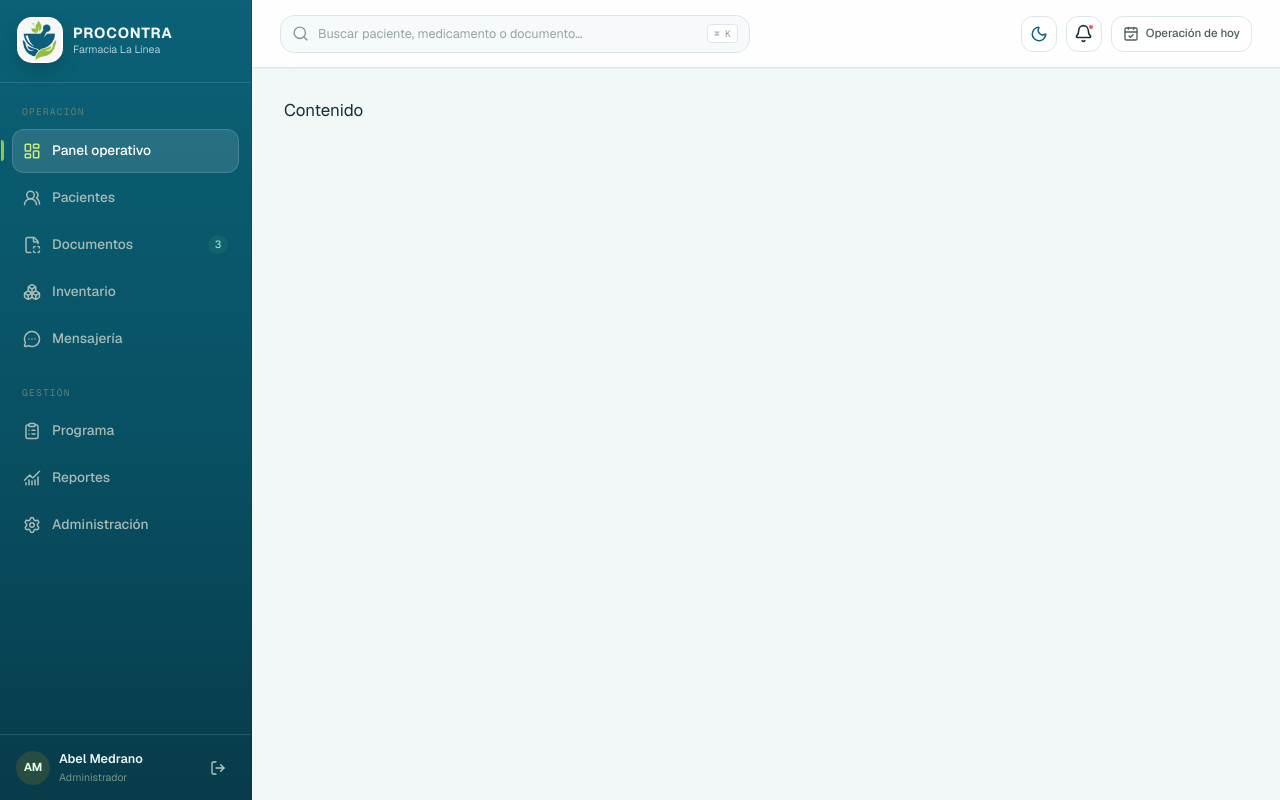
it: AppShell › switches to dark mode and persists the preference
Click the button named "Cambiar a modo oscuro" at (1039, 34), box [1021, 16, 1057, 52]
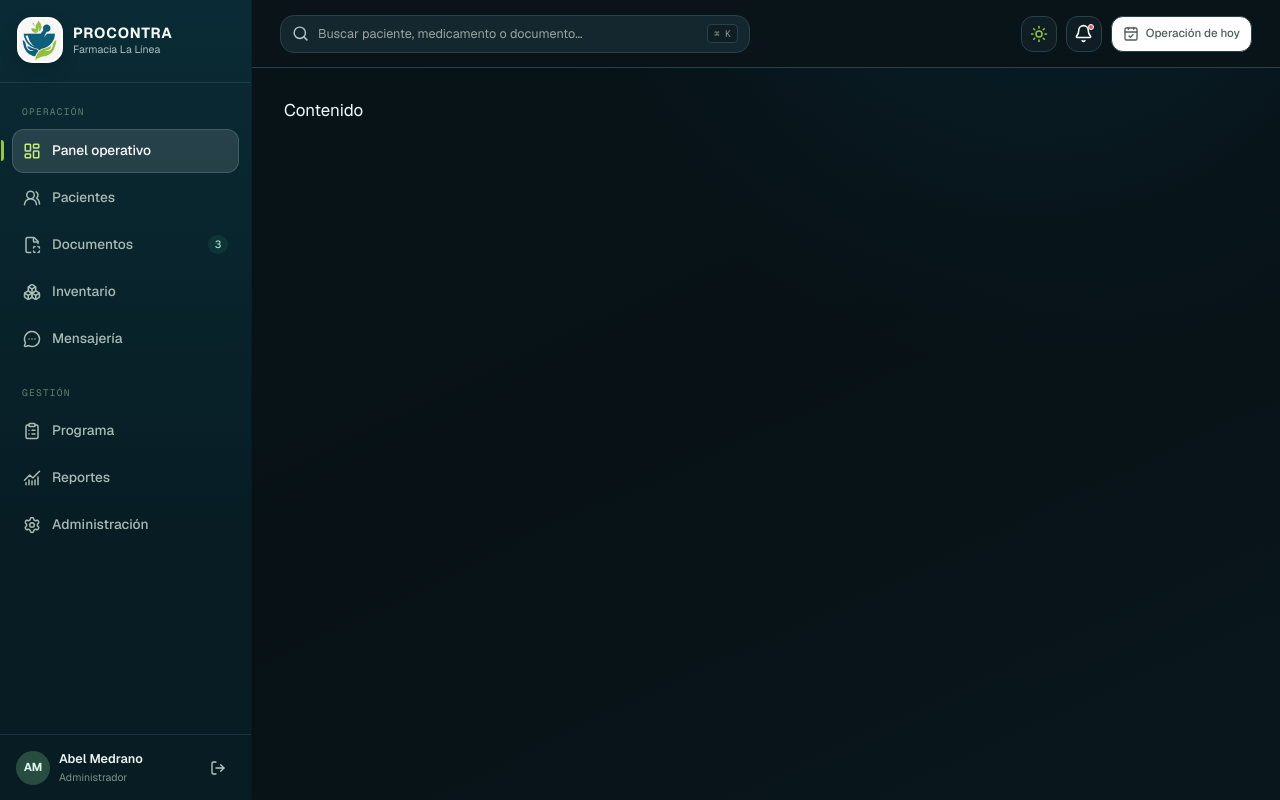
Now the button named "Cambiar a modo claro" is shown, box [1021, 16, 1057, 52]
